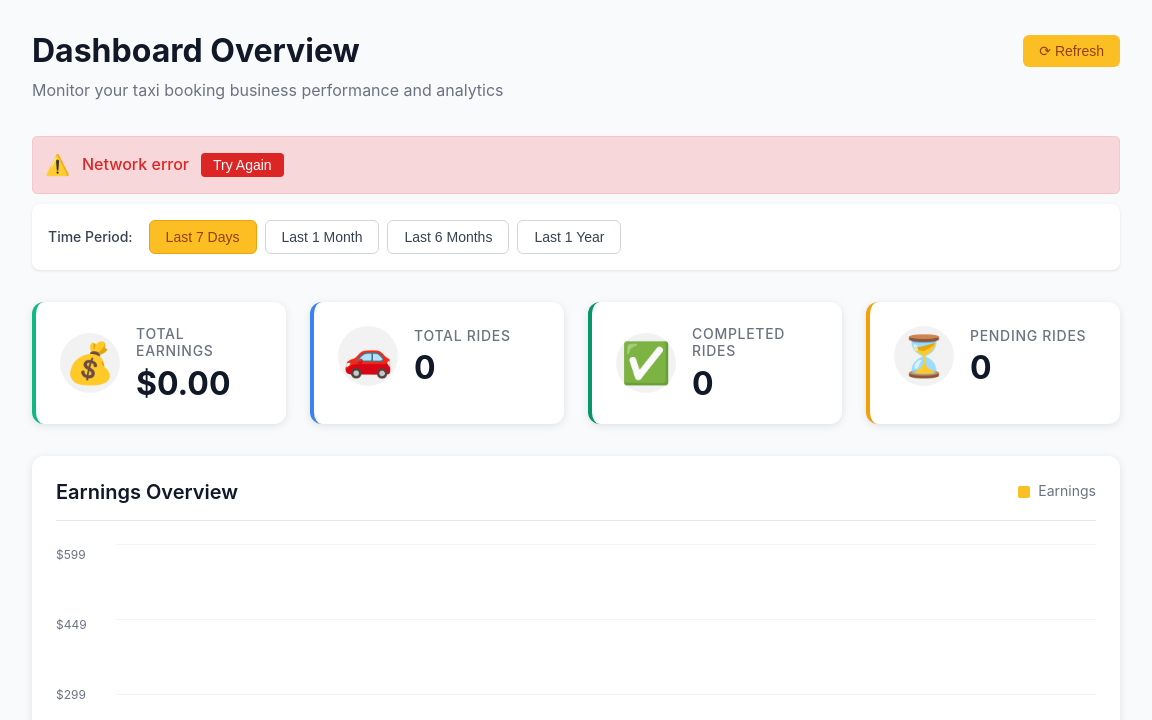
Test: AdminDashboard › retries fetch when retry button is clicked after error
This screenshot has width=1152, height=720.
Expected: the text "Network error" is shown, [82,152,189,178]
Click the button "Try Again".
click(242, 165)  # box [201,153,284,177]
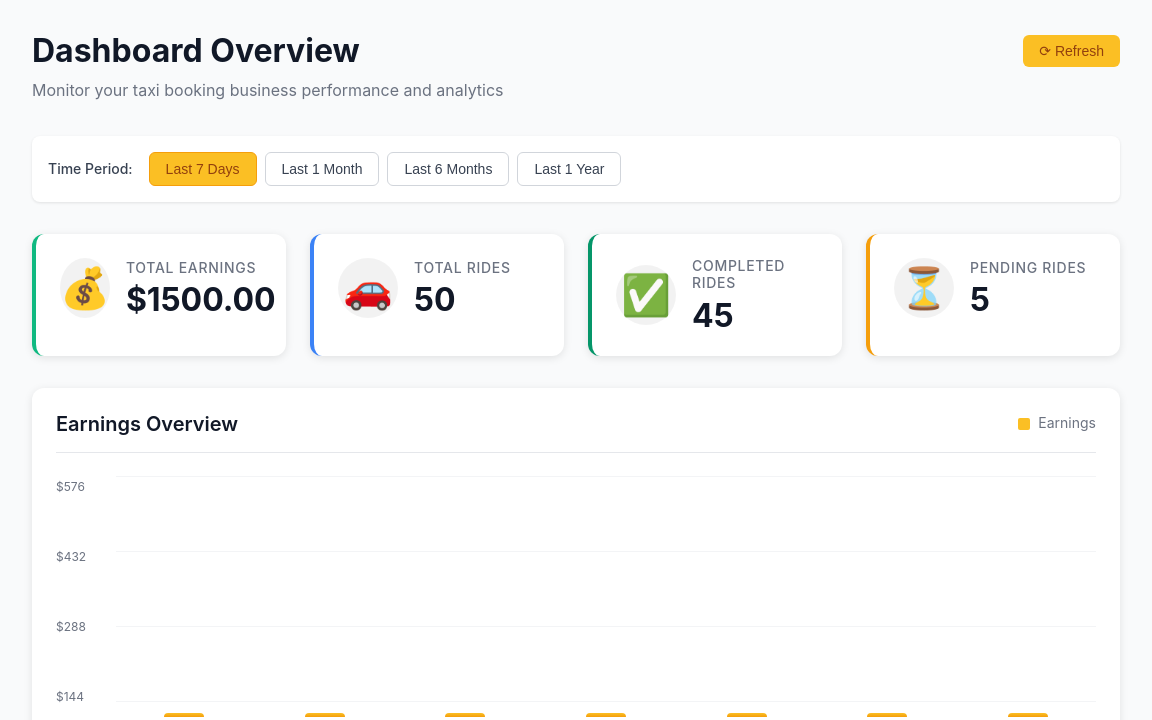
Result: the text "Network error" is gone
